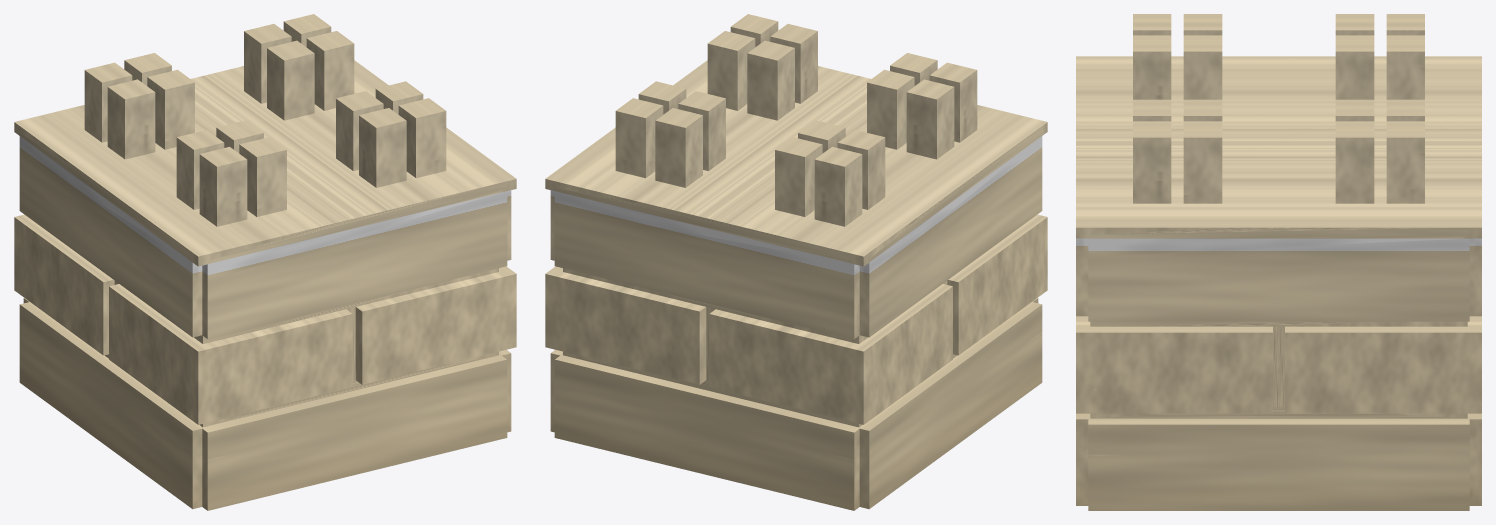
File: wall_course.glb
The picture shows the model from 3 angles, left to right: view 1: azimuth 30°, elevation 25°; view 2: azimuth 150°, elevation 25°; view 3: azimuth 270°, elevation 25°; orthographic projection. The views are drawn at different scales.
Visible parts, largest first — view 1: wall; view 2: wall; view 3: wall.
Boxes of the visible parts, bbox=[...] form: wall: bbox=[14, 14, 516, 510]; wall: bbox=[545, 14, 1047, 510]; wall: bbox=[1076, 14, 1481, 510].
Size of the model in its own units: 1 by 0.95 by 1.
1 material, 1 textured.
